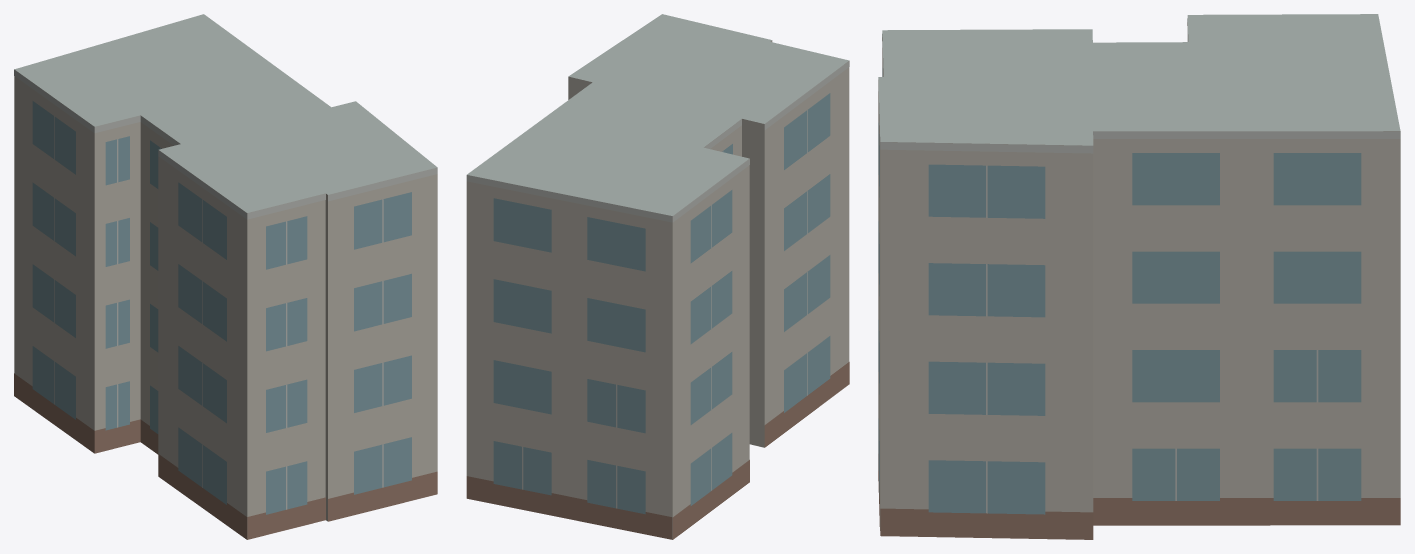
Rendered from survey-upis-32690372.glb.
The picture shows the model from 3 angles, left to right: view 1: azimuth 30°, elevation 25°; view 2: azimuth 150°, elevation 25°; view 3: azimuth 270°, elevation 25°; orthographic projection. The views are drawn at different scales.
Parts seen in each view (by area): view 1: survey-upis-32690372.tmp; view 2: survey-upis-32690372.tmp; view 3: survey-upis-32690372.tmp.
Boxes of the visible parts, x1,y1,x2,y2 form: survey-upis-32690372.tmp: (14, 14, 437, 539); survey-upis-32690372.tmp: (466, 14, 849, 539); survey-upis-32690372.tmp: (878, 14, 1400, 539).
Size of the model in its own units: 8.75 by 12.2 by 14.66.
